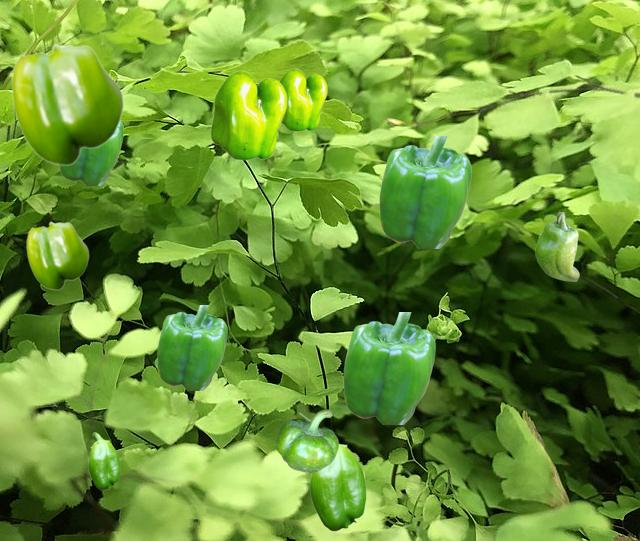bell_pepper: (11, 43, 123, 165), (343, 312, 434, 423), (379, 136, 470, 247), (210, 70, 286, 159), (157, 305, 226, 389), (309, 443, 365, 530), (26, 221, 88, 289), (58, 122, 122, 184), (276, 409, 337, 471), (535, 212, 578, 280), (279, 68, 326, 130), (88, 432, 119, 489)
